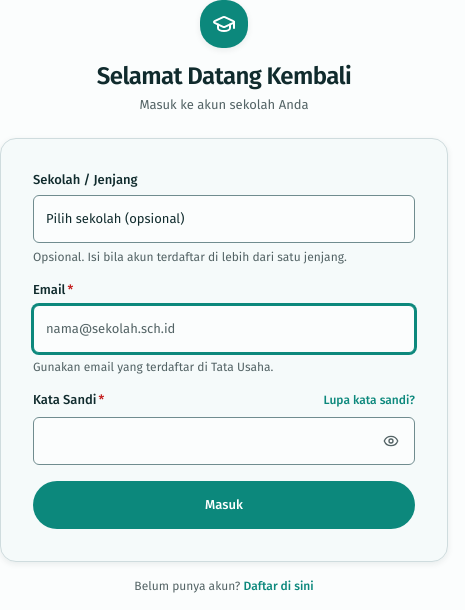
Test case: SignInPage › rejects an invalid email format
This screenshot has width=465, height=610.
Type "not-an-email" into the field labelled "Email*" at x=224, y=329, box [33, 305, 415, 353]
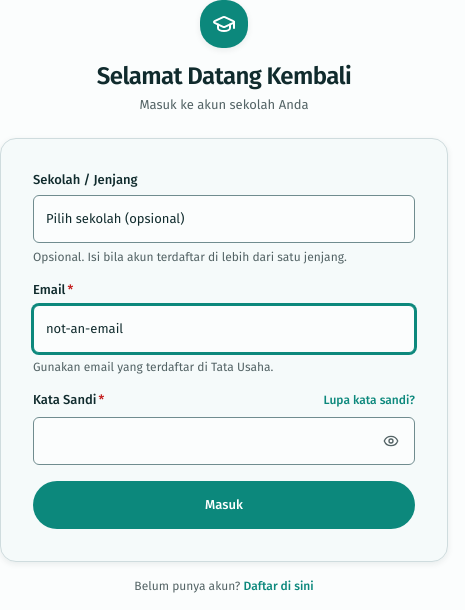
Type "password123" into the password field labelled "Kata Sandi*" at x=224, y=441, box [33, 417, 415, 465]
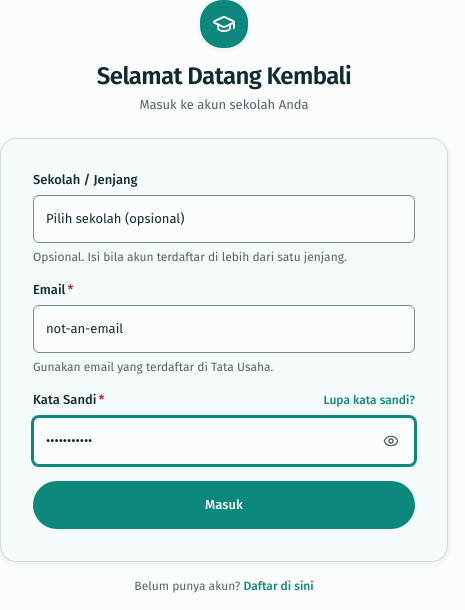
Click the button "Masuk" at x=224, y=505, box [33, 481, 415, 529]
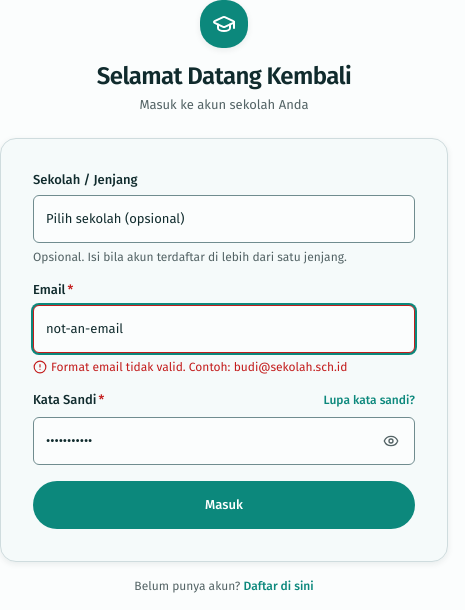
Check: the text "Format email tidak valid. Contoh: budi@sekolah.sch.id" is shown, box [33, 360, 347, 374]
